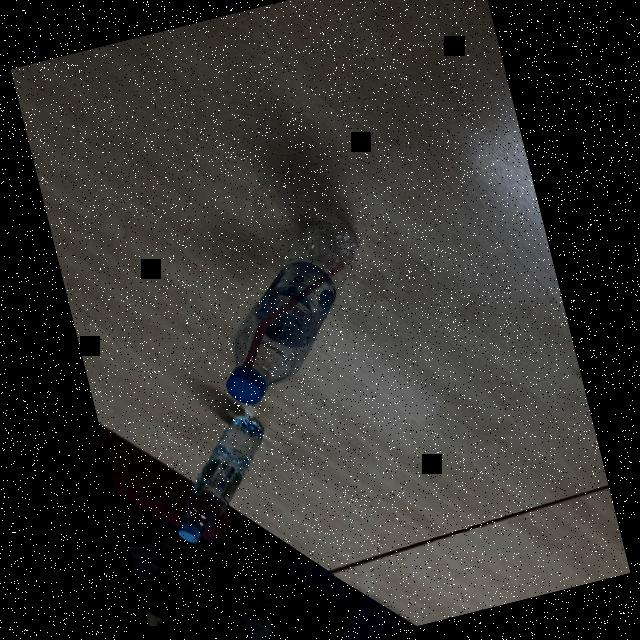plastic_bottle: (190, 211, 390, 409), (152, 410, 286, 546)
plastic_bottle_cap: (223, 359, 269, 406), (174, 518, 203, 546)
straw: (221, 257, 368, 369)
